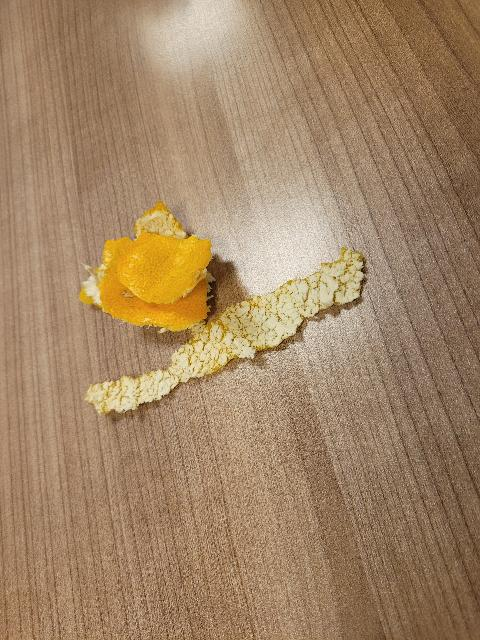Organik: (75, 248, 375, 426), (78, 198, 216, 335)
